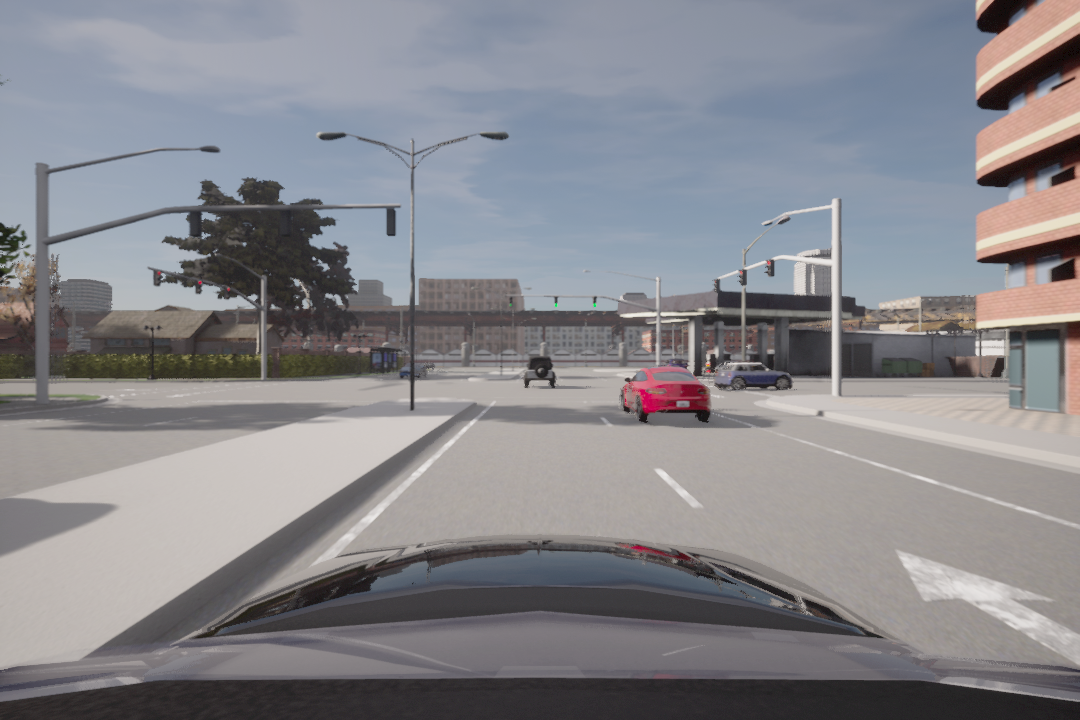TrafficLight: (151, 267, 164, 288), (764, 257, 776, 278), (737, 267, 747, 286), (194, 278, 203, 297), (224, 284, 232, 304), (712, 275, 719, 296), (551, 296, 561, 309), (507, 294, 516, 307), (591, 294, 599, 307)
